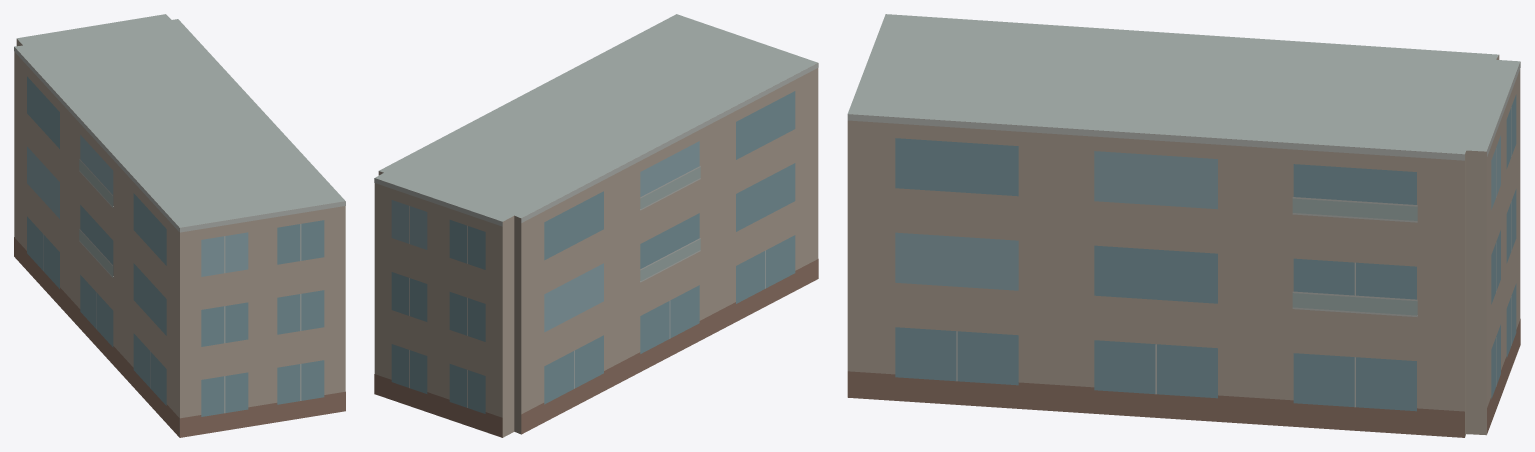
File: survey-upis-32761026.glb
The picture shows the model from 3 angles, left to right: view 1: azimuth 30°, elevation 25°; view 2: azimuth 150°, elevation 25°; view 3: azimuth 270°, elevation 25°; orthographic projection. The views are drawn at different scales.
Visible parts, largest first — view 1: survey-upis-32761026.tmp; view 2: survey-upis-32761026.tmp; view 3: survey-upis-32761026.tmp.
Part boxes in pixels (bbox=[...]): survey-upis-32761026.tmp: bbox=[14, 14, 345, 437]; survey-upis-32761026.tmp: bbox=[374, 14, 818, 437]; survey-upis-32761026.tmp: bbox=[847, 14, 1520, 437].
Size of the model in its own units: 11.47 by 10.8 by 23.24.
